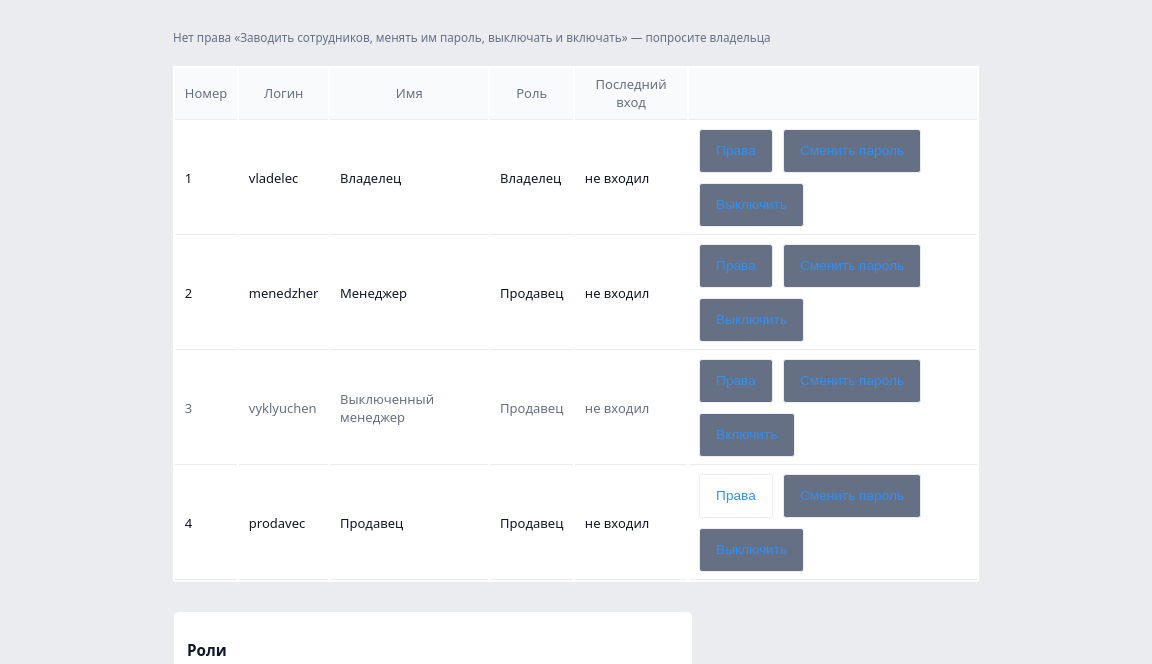
Test: учётная запись шире своих — погашена с причиной › без права назначать роли выбор роли погашен с причиной
expect the text "prodavec" is shown: met, box top-left (239, 467), bottom-right (328, 580)
Click the button with aria-label "Права: prodavec" at (736, 496), box top-left (699, 474), bottom-right (773, 518)
(page scrolled)
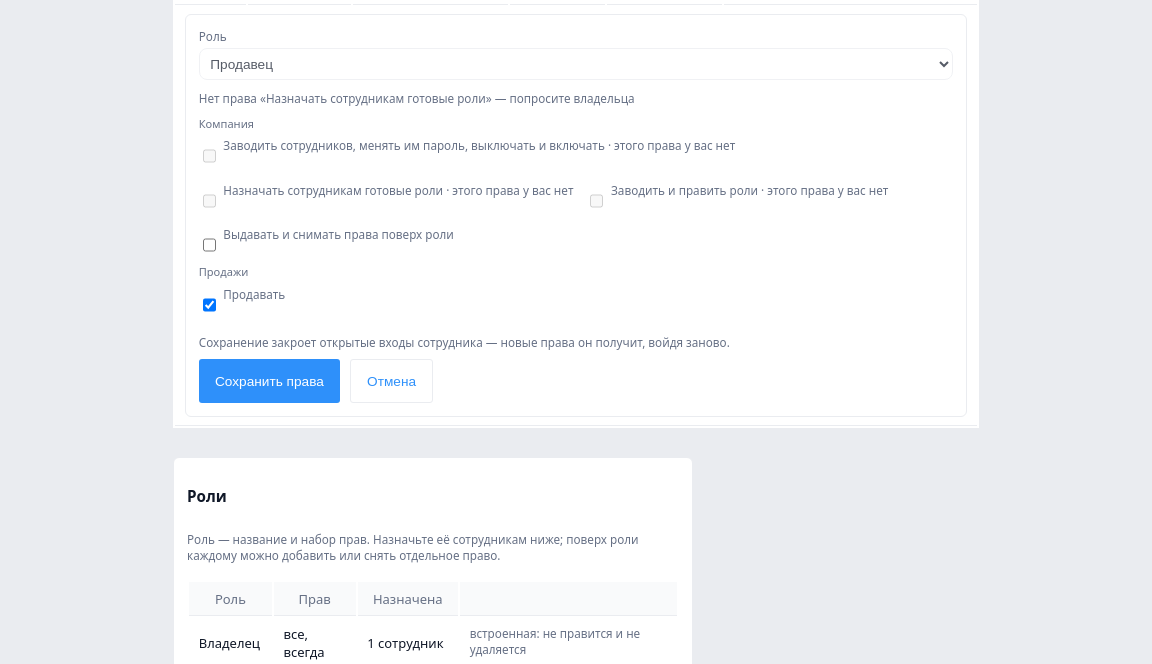
expect the dropdown labelled "Роль" is disabled: met, box top-left (199, 48), bottom-right (953, 80)
expect the text "Нет права «Назначать сотрудникам готовые роли»" is shown: met, box top-left (199, 90), bottom-right (635, 106)
expect the checkbox labelled "Продавать" is enabled: met, box top-left (203, 289), bottom-right (216, 321)
